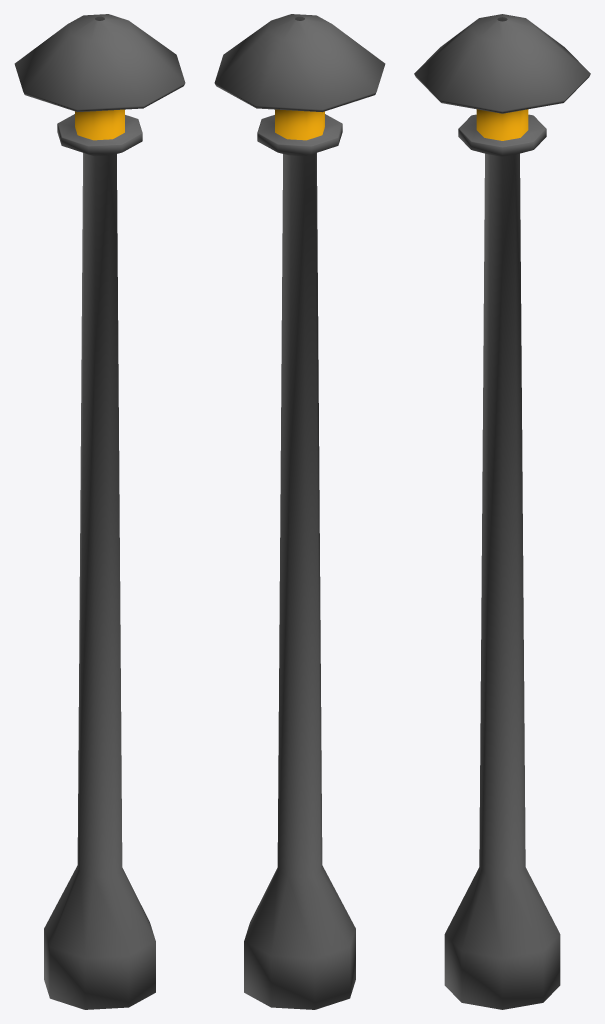
File: lamp.glb
3 views of the same model, side by side, from view 1: azimuth 30°, elevation 25°; view 2: azimuth 150°, elevation 25°; view 3: azimuth 270°, elevation 25° (orthographic).
Visible parts, largest first — view 1: Circle; view 2: Circle; view 3: Circle.
Part boxes in pixels (x1=…): Circle: x1=14, y1=14, x2=185, y2=1009; Circle: x1=214, y1=14, x2=385, y2=1009; Circle: x1=414, y1=14, x2=590, y2=1009.
Bounding box in the file's own units: 4.06 × 24.5 × 4.06.
